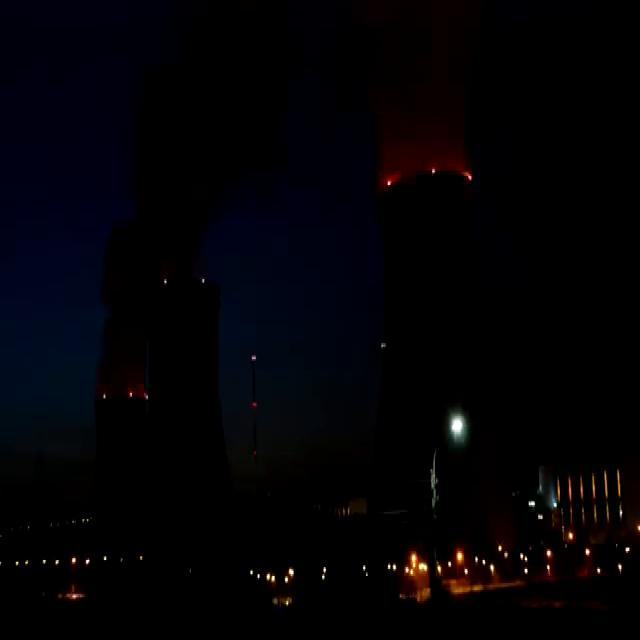smoke: (101, 0, 251, 393), (373, 0, 461, 169)
